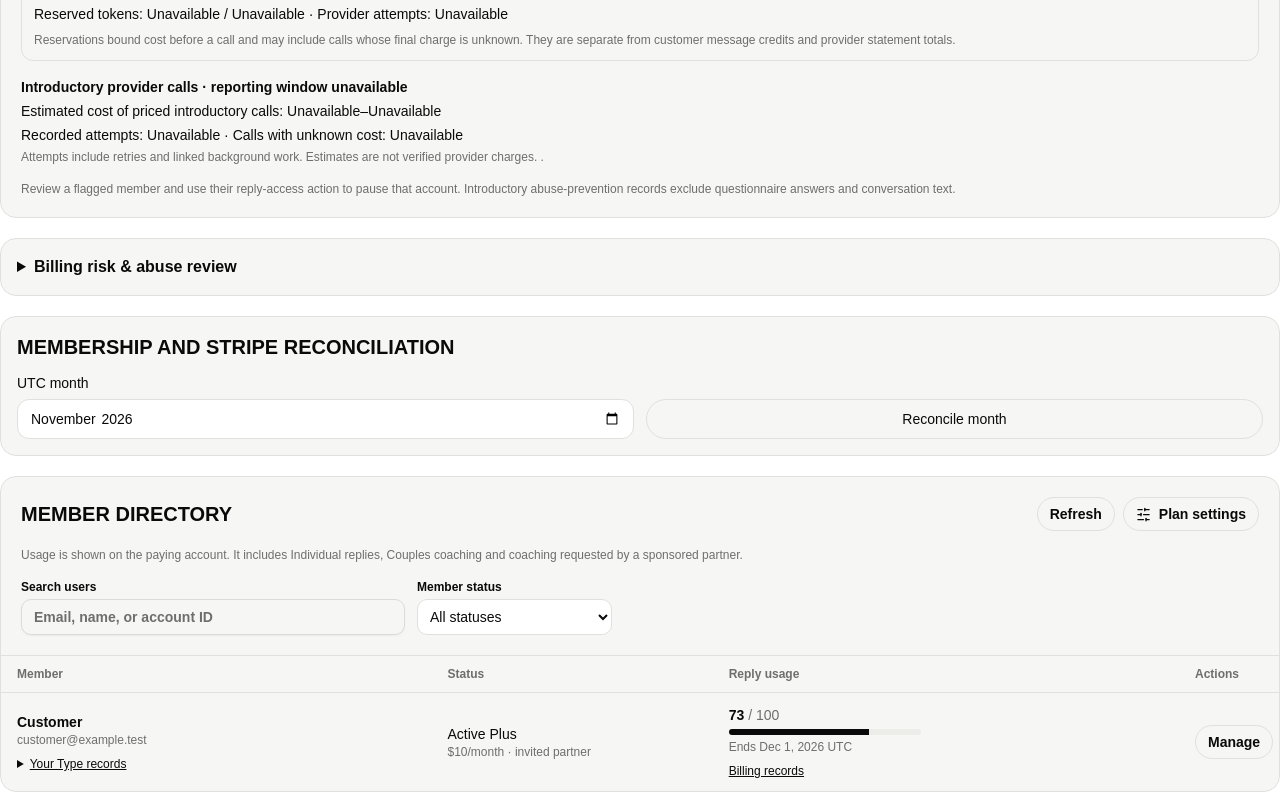
staff history loads for the opened member and distinguishes recorded changes
This screenshot has width=1280, height=800.
(page scrolled)
Step 1. Click the button "Manage" → (1234, 742), box [1195,725,1273,759]
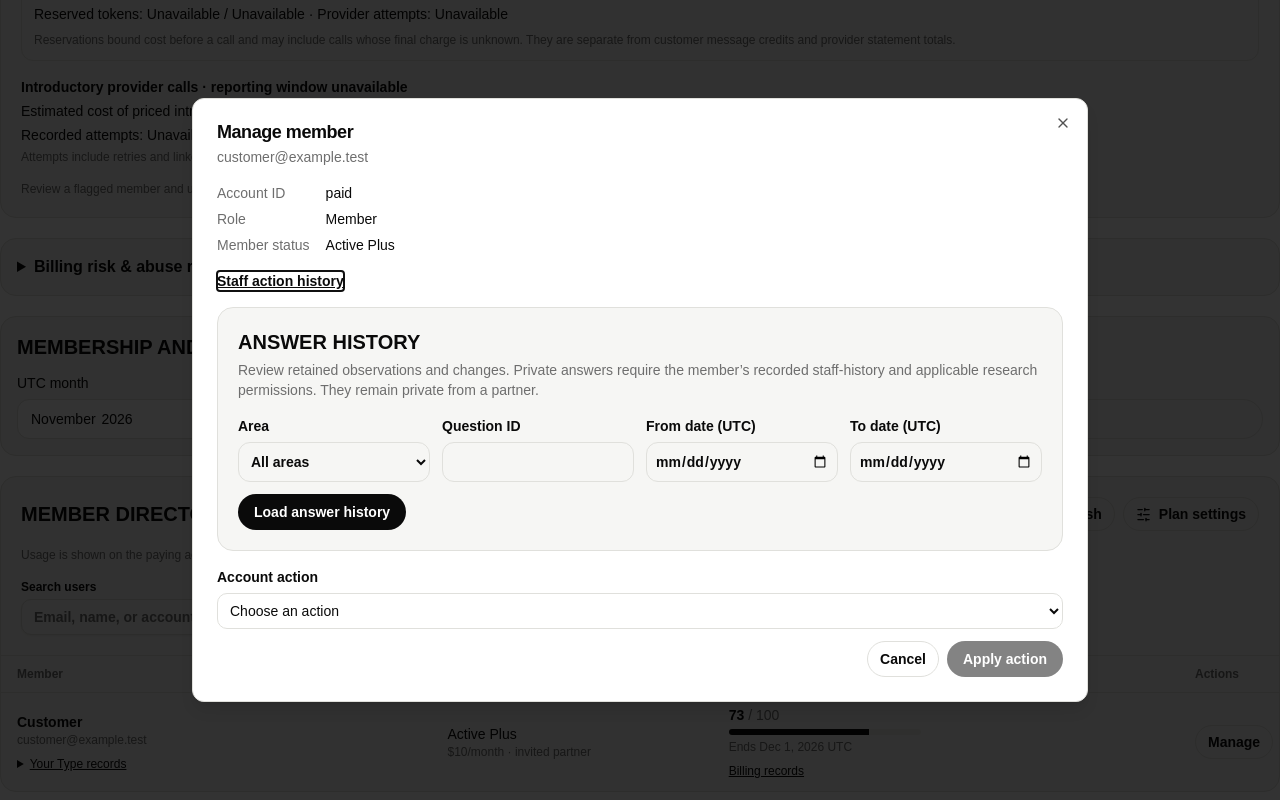
Step 2. Click the button "Staff action history" → (280, 281), box [217,271,344,291]
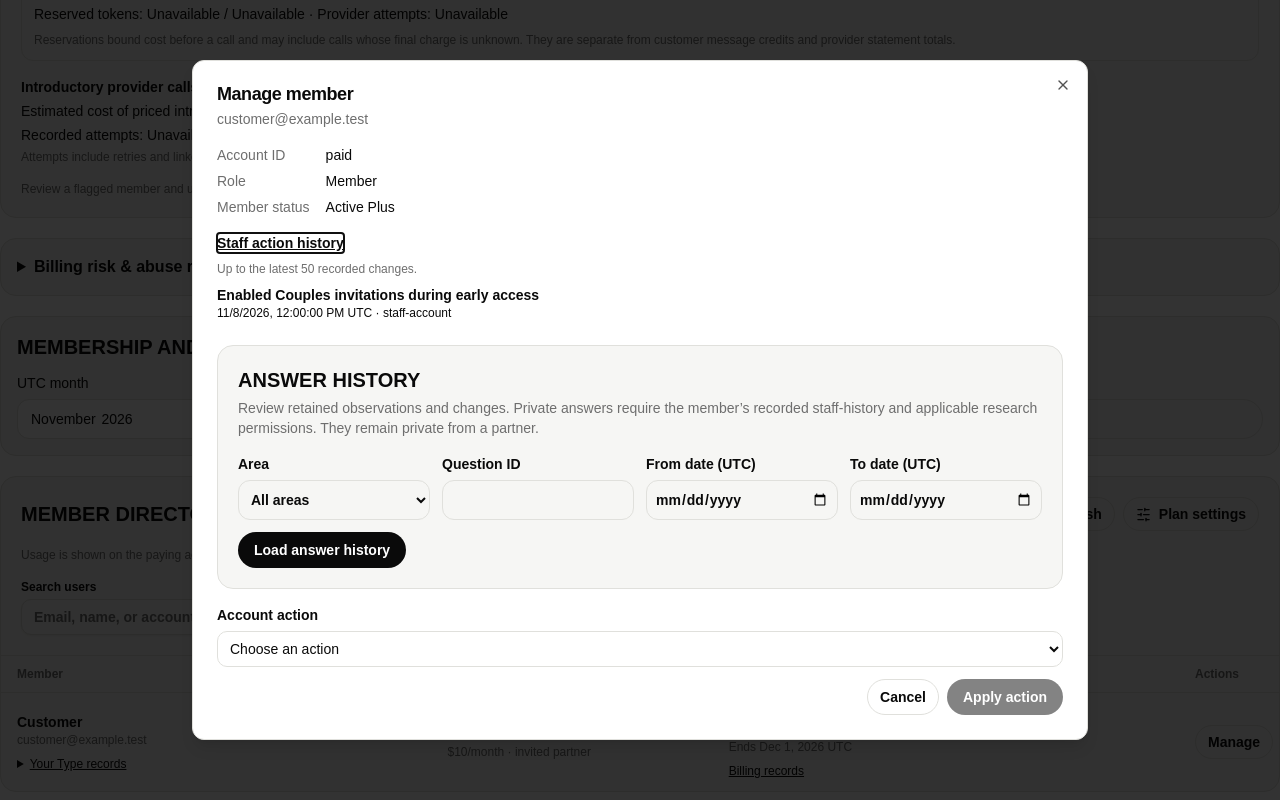
Expected: the list shows "Enabled Couples invitations during early access", [217,287,539,303]
Expected: the list shows "staff-account", [383,306,451,320]
